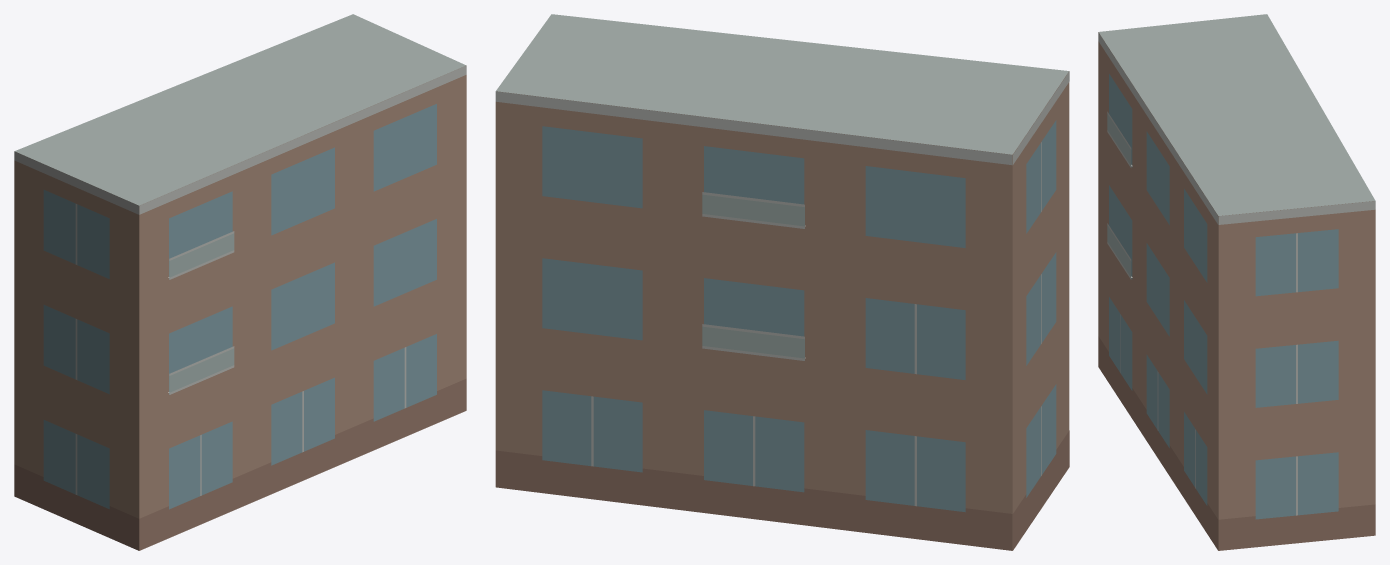
Rendered from survey-upis-32618980.glb.
3 views of the same model, side by side, from view 1: azimuth 30°, elevation 25°; view 2: azimuth 150°, elevation 25°; view 3: azimuth 270°, elevation 25° (orthographic). The views are drawn at different scales.
Visible parts, largest first — view 1: survey-upis-32618980.tmp; view 2: survey-upis-32618980.tmp; view 3: survey-upis-32618980.tmp.
Boxes of the visible parts, box(x1,y1,x2,y2) form: survey-upis-32618980.tmp: box(14, 14, 466, 550); survey-upis-32618980.tmp: box(495, 14, 1069, 550); survey-upis-32618980.tmp: box(1098, 14, 1375, 550).
Bounding box in the file's own units: 11.86 × 9.15 × 6.88.
